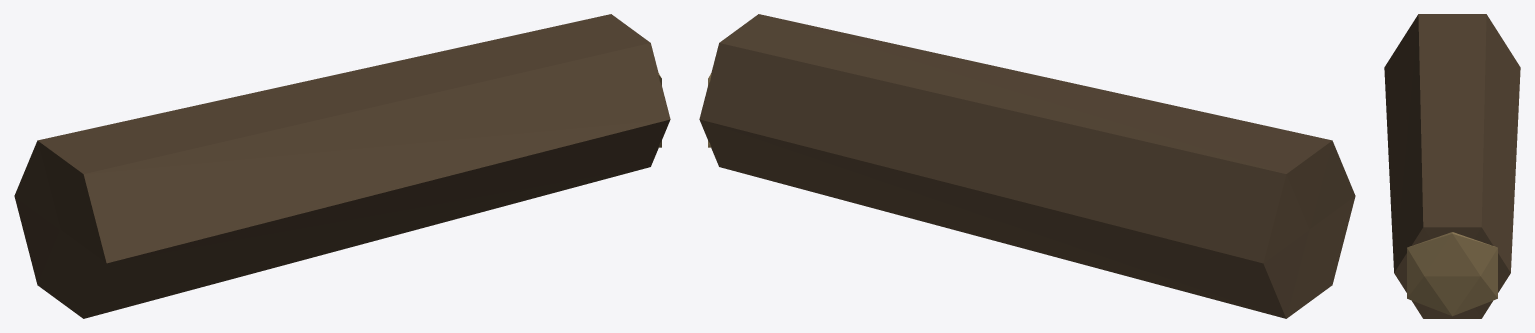
Rendered from fallen_log.glb.
The picture shows the model from 3 angles, left to right: view 1: azimuth 30°, elevation 25°; view 2: azimuth 150°, elevation 25°; view 3: azimuth 270°, elevation 25°; orthographic projection. The views are drawn at different scales.
Visible parts, largest first — view 1: world-scenery/fallen_log; view 2: world-scenery/fallen_log; view 3: world-scenery/fallen_log.
Part boxes in pixels (bbox=[...]): world-scenery/fallen_log: bbox=[14, 14, 670, 318]; world-scenery/fallen_log: bbox=[699, 14, 1355, 318]; world-scenery/fallen_log: bbox=[1384, 14, 1520, 318].
Size of the model in its own units: 2.64 by 0.6305 by 0.728.
